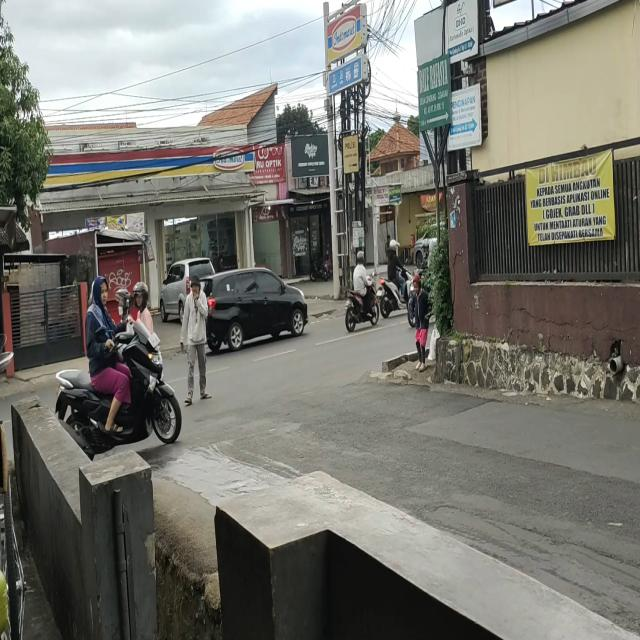helmet: (134, 283, 149, 307), (117, 290, 130, 312), (357, 252, 365, 266)
no-helmet: (92, 277, 110, 305)
